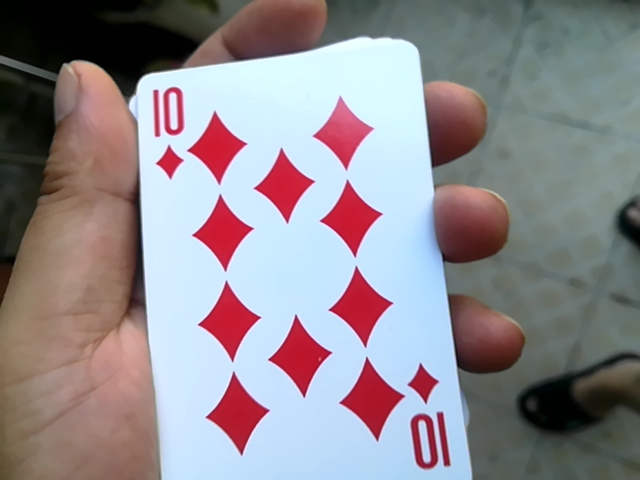fk 10: (117, 38, 447, 479)
